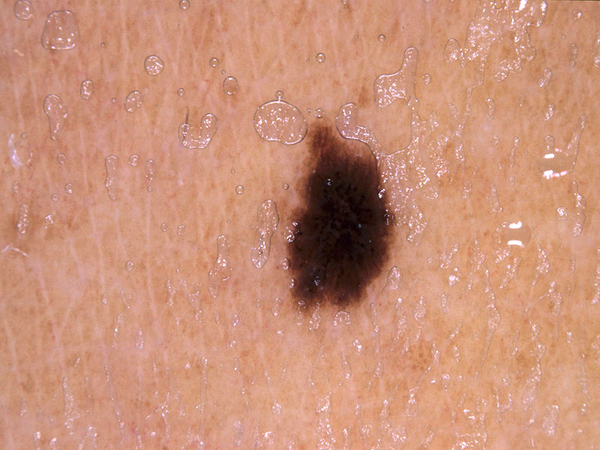Detected Lesion: (276, 109, 401, 320)
